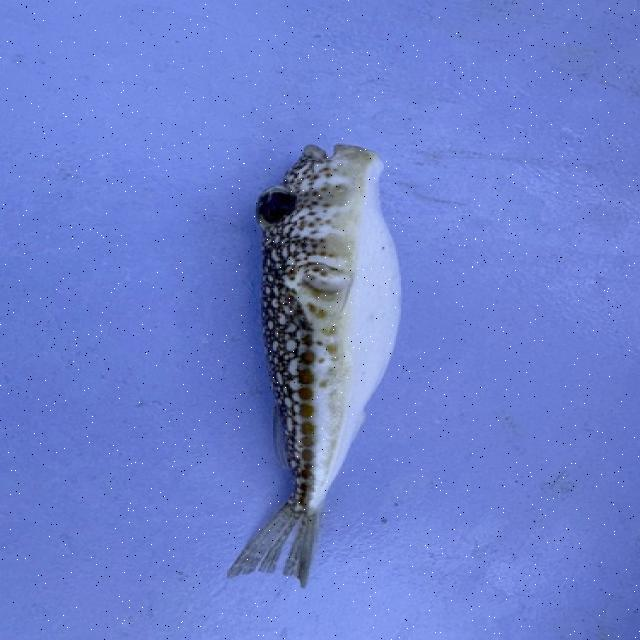Balik: (229, 145, 401, 586)
